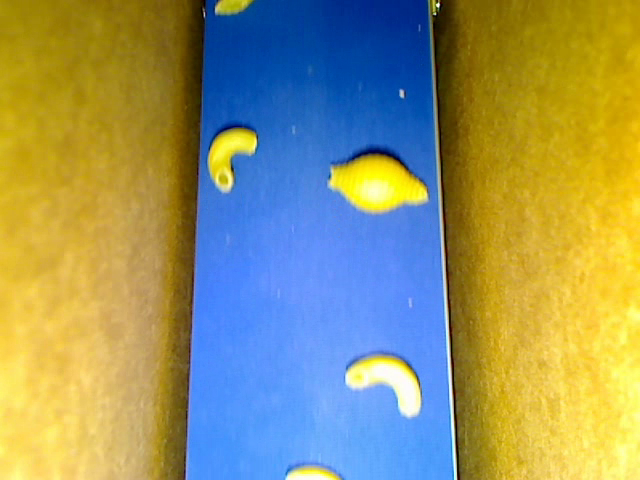elbow: (344, 351, 421, 417), (207, 127, 257, 192)
penne: (214, 1, 254, 16)
shell: (327, 152, 428, 213)
